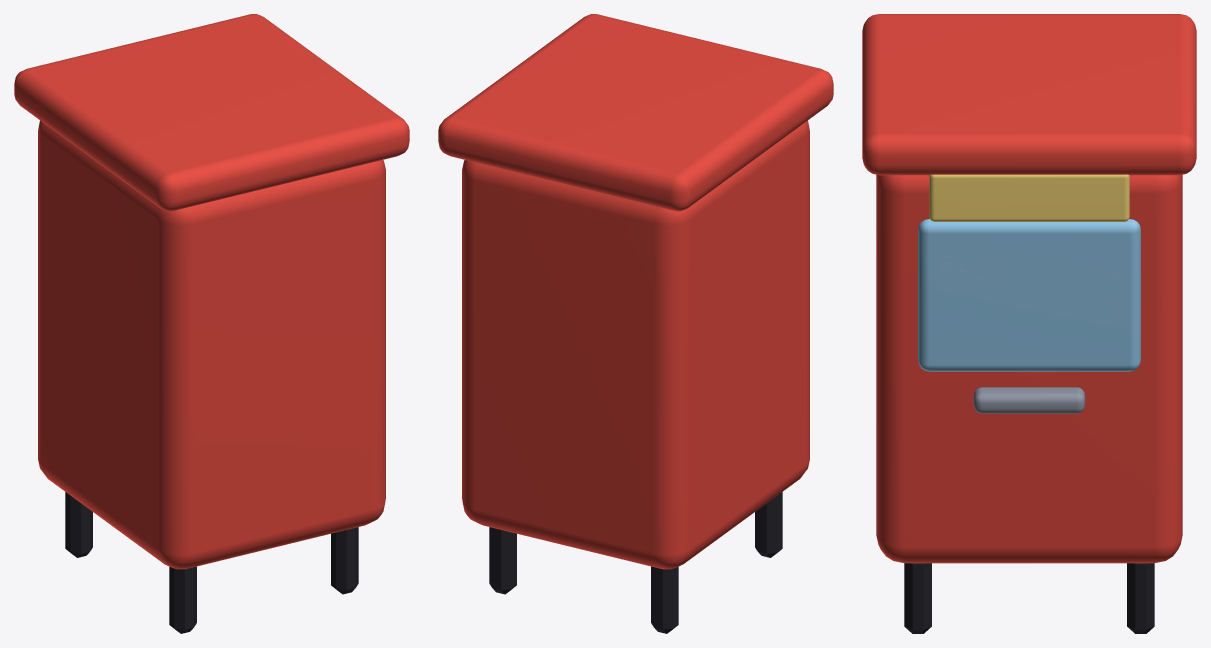
File: newsbox.glb
3 renders of one model, left to right at view 1: azimuth 30°, elevation 25°; view 2: azimuth 150°, elevation 25°; view 3: azimuth 270°, elevation 25°, orthographic. The views are drawn at different scales.
Parts seen in each view (by area): view 1: newsbox; view 2: newsbox; view 3: newsbox.
Part boxes in pixels (x1=…): newsbox: x1=14, y1=14, x2=409, y2=633; newsbox: x1=438, y1=14, x2=833, y2=633; newsbox: x1=862, y1=14, x2=1196, y2=633.
Bounding box in the file's own units: 0.575 × 1.02 × 0.6.
Materials: 1 (1 with a texture image).
